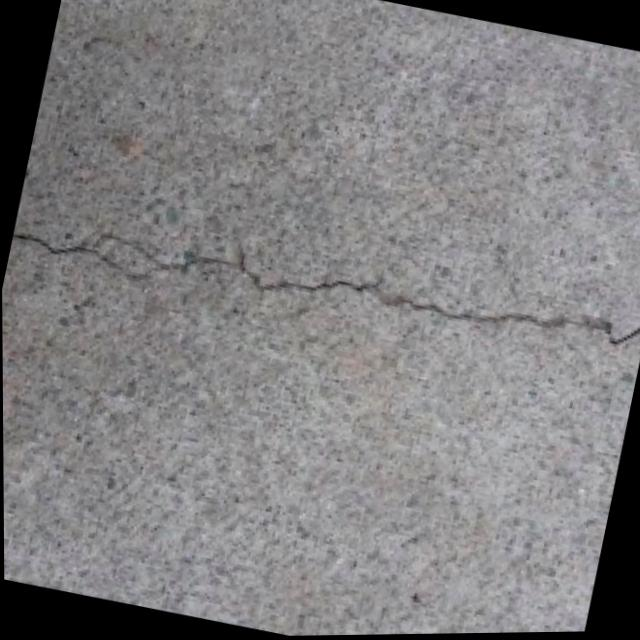Crack: (1, 152, 640, 441)
